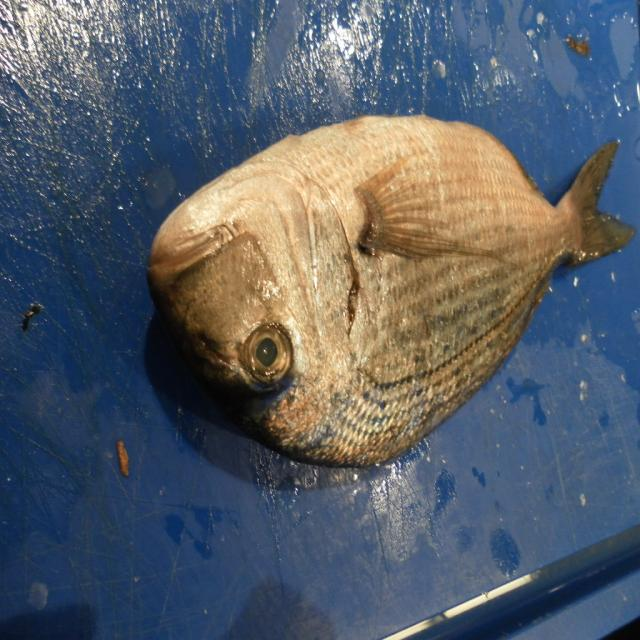Red-Sea-Bream-mercan-: (146, 115, 635, 472)
